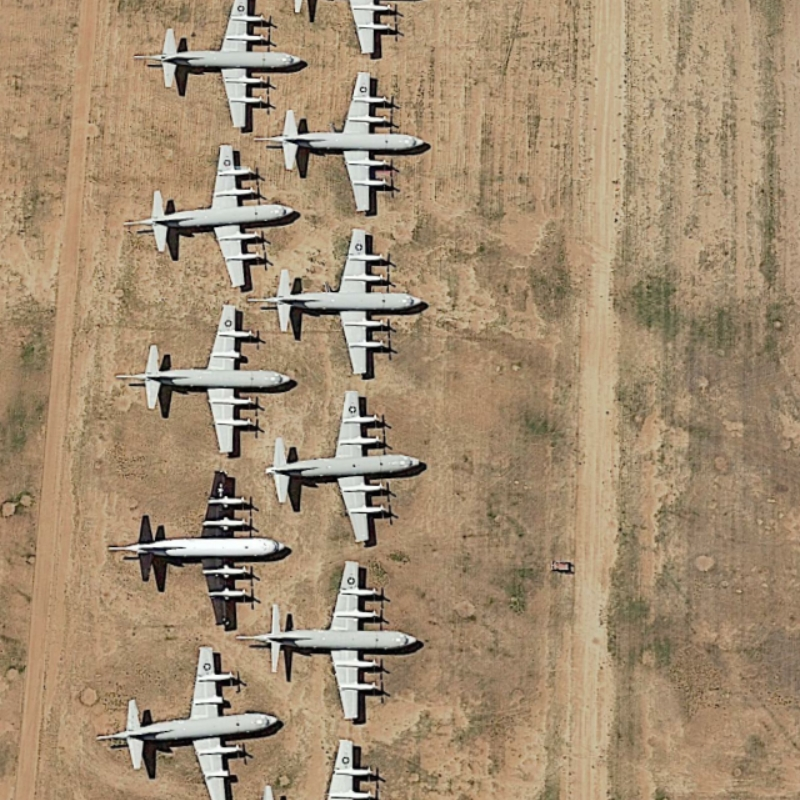A9: (100, 464, 291, 625), (237, 554, 426, 716), (244, 225, 440, 380), (118, 139, 315, 292), (94, 641, 283, 800), (110, 299, 299, 455), (254, 66, 434, 219), (261, 388, 425, 552), (134, 1, 309, 135)
